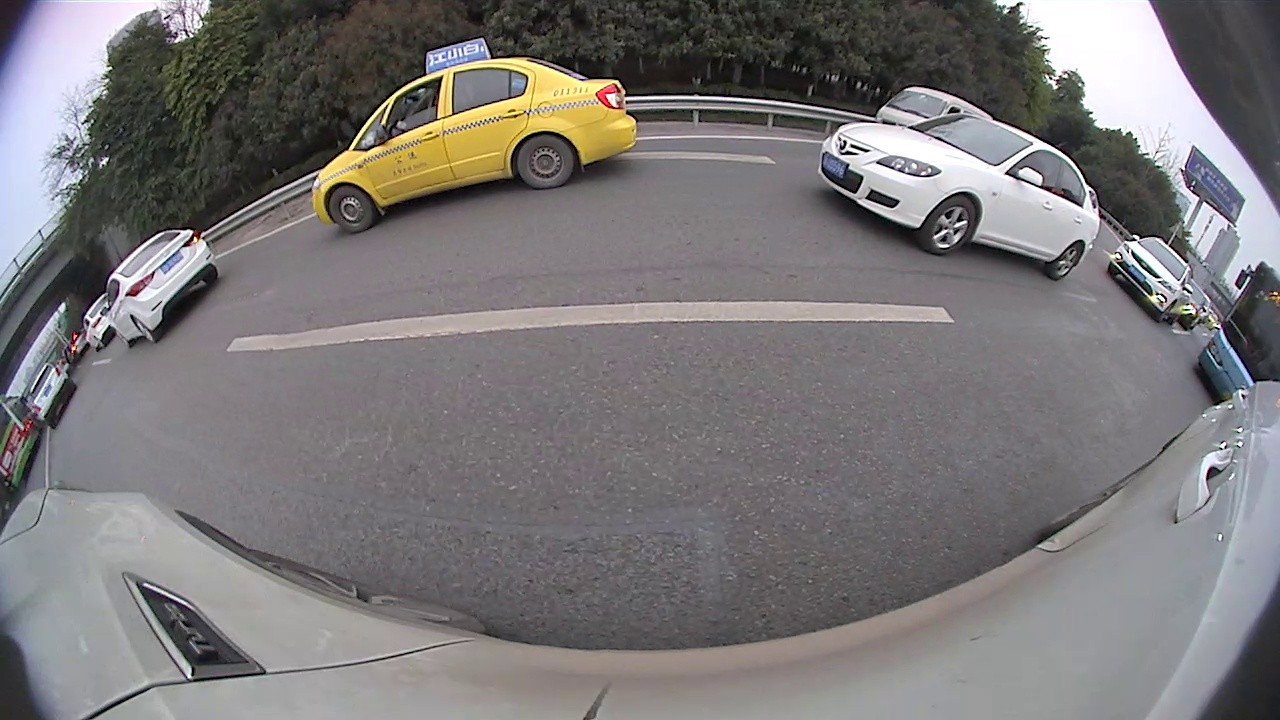bus: (1198, 254, 1279, 409)
car: (308, 37, 642, 235), (815, 111, 1104, 281), (98, 224, 220, 349), (1106, 233, 1192, 326), (876, 84, 998, 138), (19, 359, 79, 430), (81, 288, 118, 353)
front: (919, 192, 980, 258), (327, 183, 378, 235)
rear: (513, 134, 577, 191), (1044, 241, 1085, 283), (130, 315, 158, 346)
